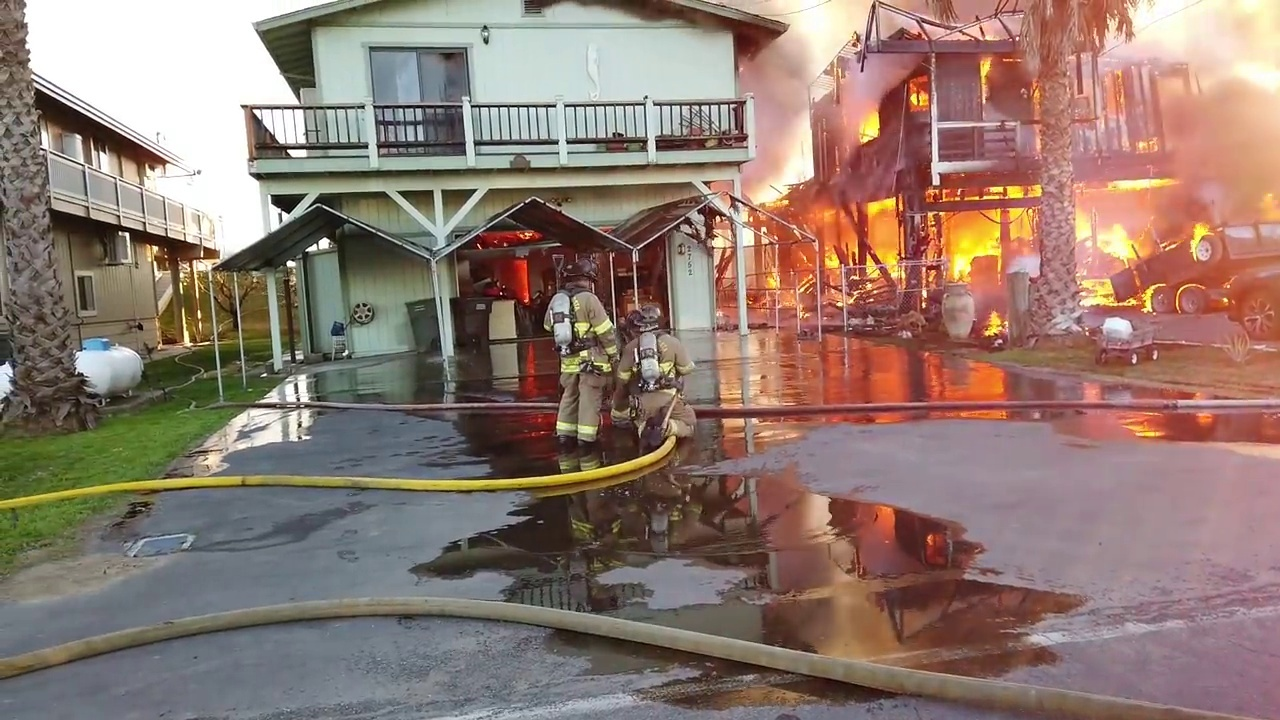fire: (812, 184, 1041, 258), (710, 231, 817, 322), (974, 56, 1040, 120), (1072, 205, 1141, 259), (1137, 277, 1205, 316), (1078, 273, 1136, 310), (1106, 171, 1181, 195), (855, 98, 886, 146), (1104, 69, 1133, 114), (977, 307, 1011, 342), (900, 70, 931, 107), (1133, 136, 1168, 157)
smoke: (1172, 2, 1280, 226), (737, 37, 828, 177), (735, 1, 872, 37), (1106, 7, 1171, 66)
